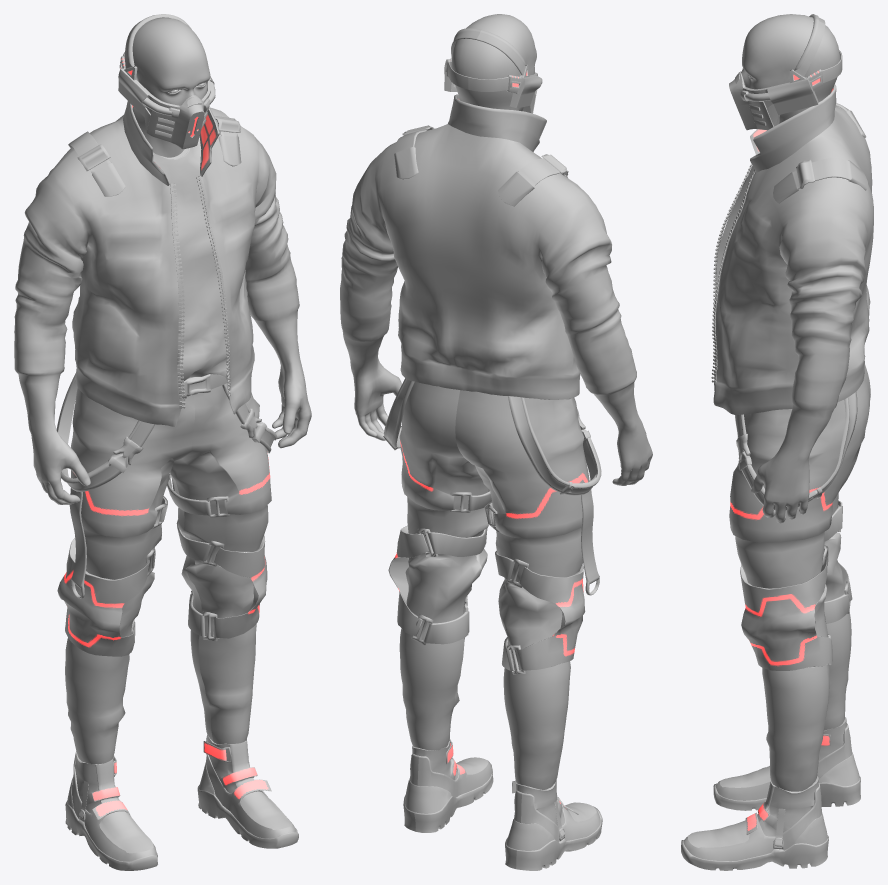
3 renders of one model, left to right at view 1: azimuth 30°, elevation 25°; view 2: azimuth 150°, elevation 25°; view 3: azimuth 270°, elevation 25°, orthographic.
Parts seen in each view (by area): view 1: LP1:LP1:LPLock, LP1:LP1:Mesh1, polySurface2, LP1:LP1:Group2LP, LP1:LP1:Mesh; view 2: LP1:LP1:LPLock, LP1:LP1:Mesh1, polySurface2, LP1:LP1:Group2LP, LP1:LP1:Mesh; view 3: LP1:LP1:LPLock, LP1:LP1:Mesh1, polySurface2, LP1:LP1:Group2LP, LP1:LP1:Mesh.
Part boxes in pixels (x1=…): LP1:LP1:LPLock: x1=14, y1=101, x2=311, y2=504; LP1:LP1:Mesh1: x1=57, y1=374, x2=271, y2=764; polySurface2: x1=56, y1=107, x2=298, y2=870; LP1:LP1:Group2LP: x1=132, y1=18, x2=210, y2=157; LP1:LP1:Mesh: x1=118, y1=14, x2=215, y2=149; LP1:LP1:LPLock: x1=340, y1=94, x2=652, y2=485; LP1:LP1:Mesh1: x1=388, y1=381, x2=589, y2=789; polySurface2: x1=383, y1=125, x2=602, y2=870; LP1:LP1:Group2LP: x1=452, y1=14, x2=536, y2=111; LP1:LP1:Mesh: x1=444, y1=28, x2=542, y2=113; LP1:LP1:LPLock: x1=711, y1=84, x2=873, y2=523; LP1:LP1:Mesh1: x1=729, y1=364, x2=870, y2=791; polySurface2: x1=681, y1=103, x2=867, y2=870; LP1:LP1:Group2LP: x1=741, y1=14, x2=840, y2=123; LP1:LP1:Mesh: x1=729, y1=14, x2=842, y2=130.
Size of the model in its own units: 0.6904 by 1.88 by 0.4028.
